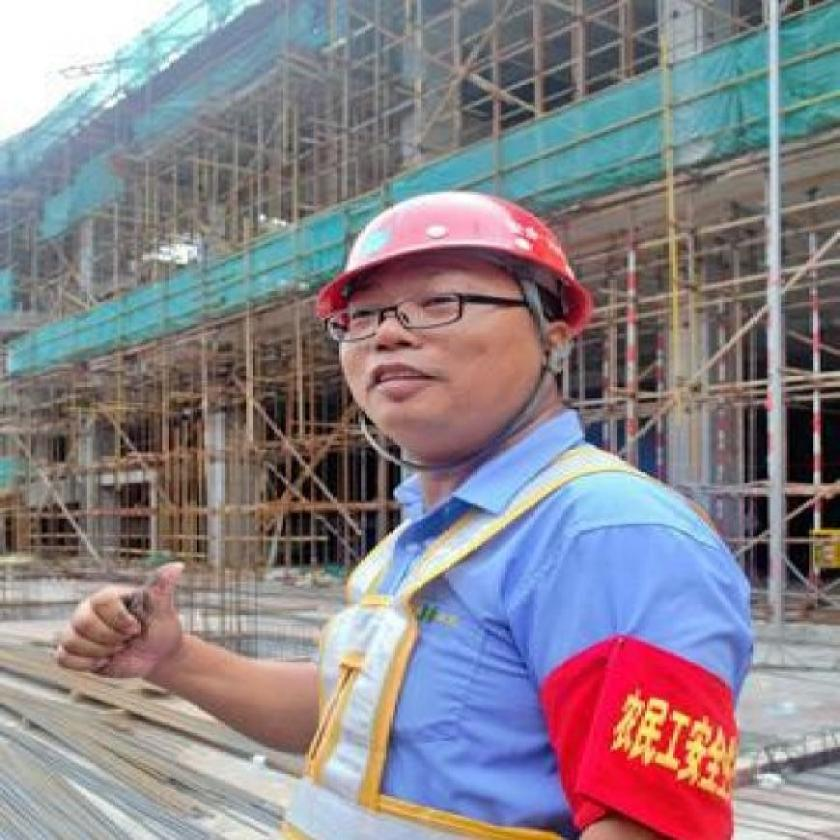Con_casco: (313, 171, 589, 479)
